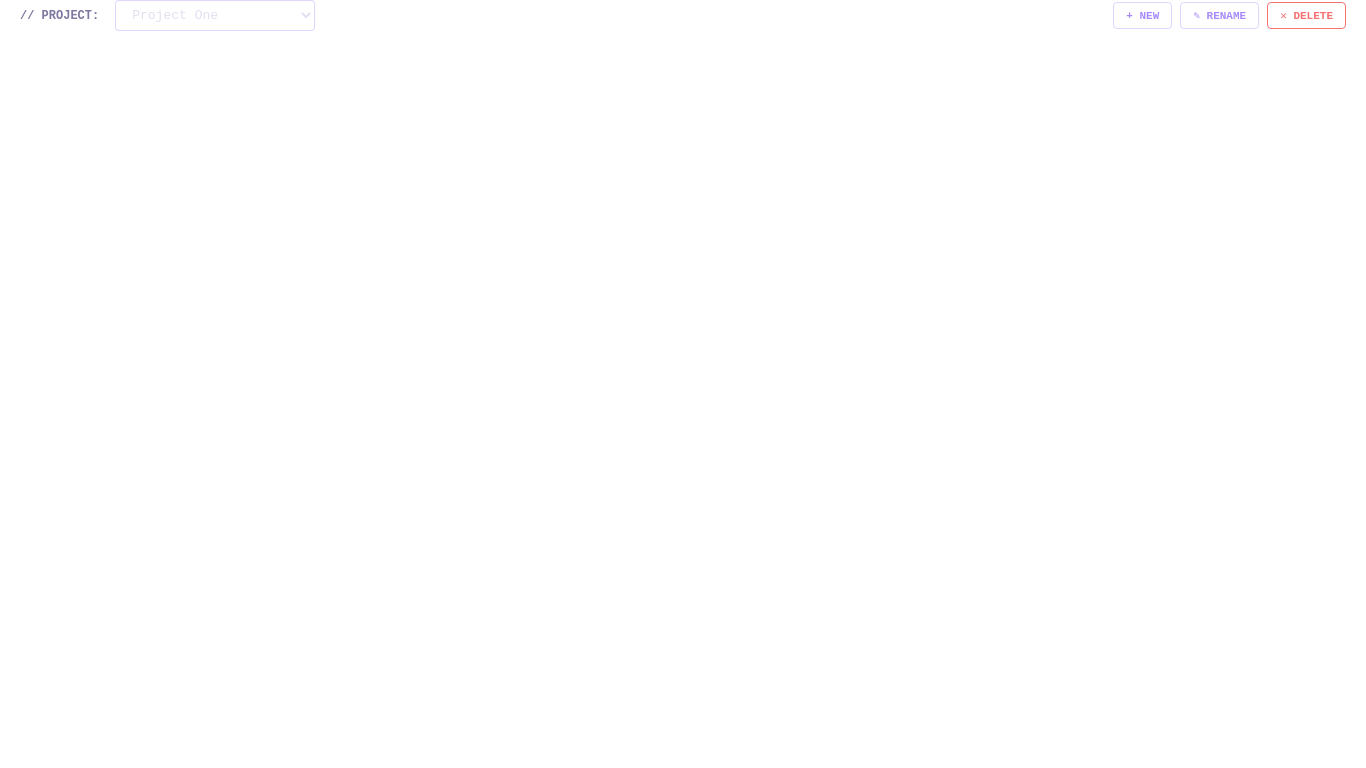
Test: ProjectPicker › opens create modal when clicking NEW button
Click the button "+ NEW": (1143,16) [1113,2,1172,29]
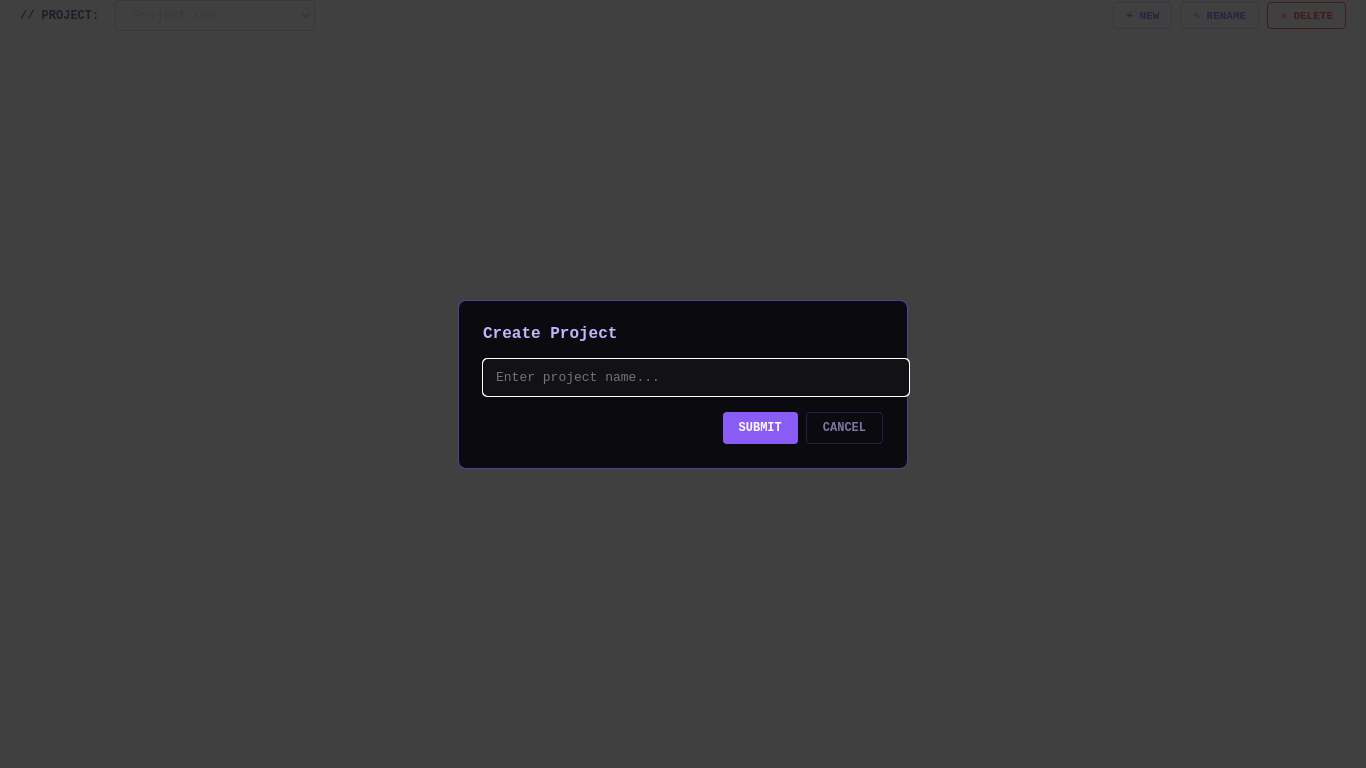
Expected: the heading "Create Project" is shown, [483,324,617,342]
Expected: the field with placeholder "Enter project name..." is shown, [483,358,909,396]
